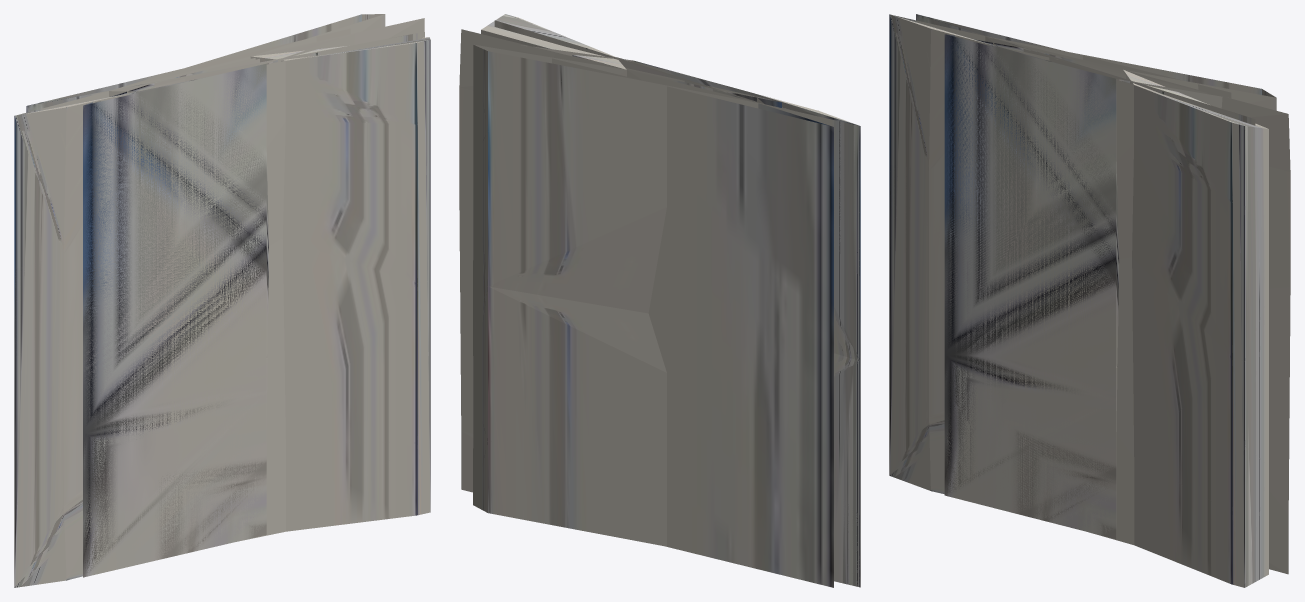
File: imp-magazine.glb
The picture shows the model from 3 angles, left to right: view 1: azimuth 30°, elevation 25°; view 2: azimuth 150°, elevation 25°; view 3: azimuth 330°, elevation 25°; orthographic projection. The views are drawn at different scales.
Parts seen in each view (by area): view 1: Kerbside_metres_ground_pivot (×3); view 2: Kerbside_metres_ground_pivot (×3); view 3: Kerbside_metres_ground_pivot (×3).
Part boxes in pixels (x1=…): Kerbside_metres_ground_pivot (×3): x1=14, y1=14, x2=430, y2=587; Kerbside_metres_ground_pivot (×3): x1=459, y1=14, x2=860, y2=587; Kerbside_metres_ground_pivot (×3): x1=889, y1=14, x2=1290, y2=587.
Size of the model in its own units: 0.2544 by 0.28 by 0.0465.
1 material, 1 textured.
